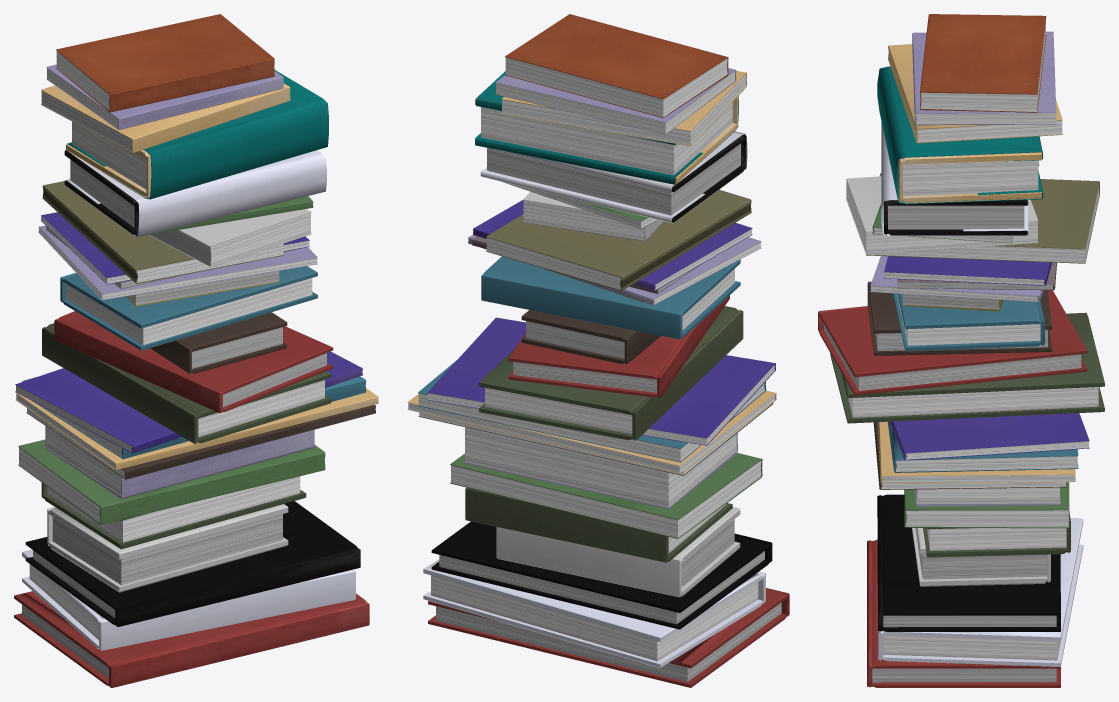
The model's file is Bookstack_b.glb.
3 renders of one model, left to right at view 1: azimuth 30°, elevation 25°; view 2: azimuth 150°, elevation 25°; view 3: azimuth 270°, elevation 25°, orthographic. The views are drawn at different scales.
Parts seen in each view (by area): view 1: Bookstack_b; view 2: Bookstack_b; view 3: Bookstack_b.
Part boxes in pixels (left/top/right/bottom): Bookstack_b: left=14, top=14, right=378, bottom=687; Bookstack_b: left=407, top=14, right=789, bottom=687; Bookstack_b: left=818, top=14, right=1104, bottom=687.
Size of the model in its own units: 0.416 by 0.7992 by 0.3685.
1 material, 1 textured.
